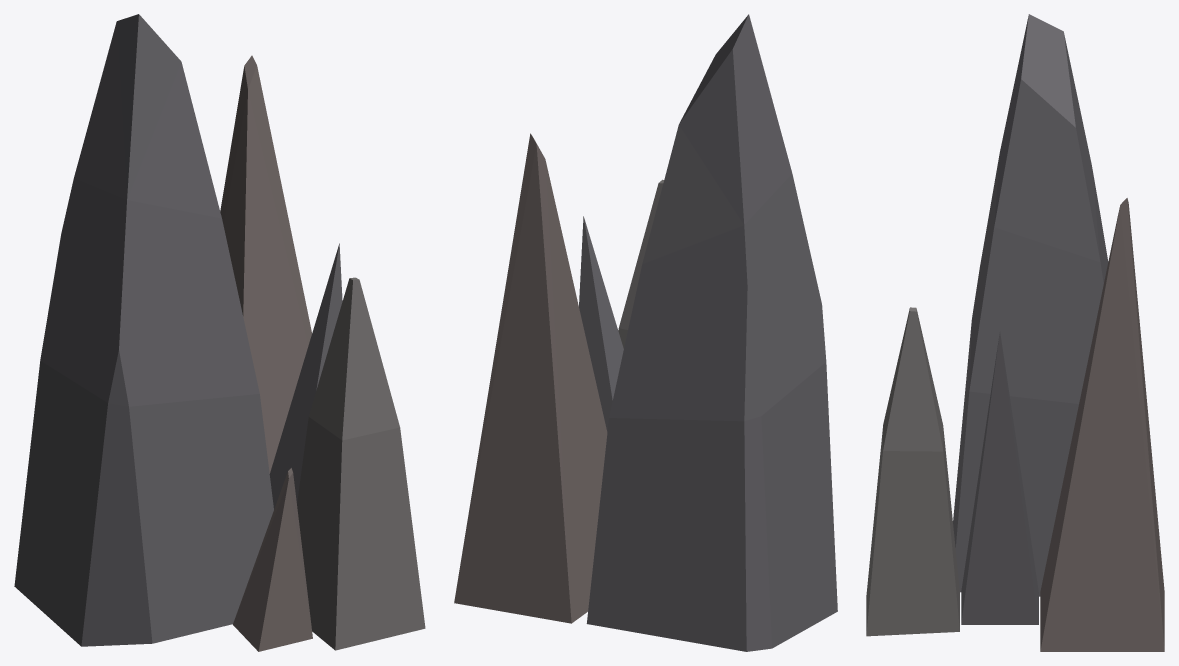
Rendered from Rocks_Sharp_s_01.fbx.
3 views of the same model, side by side, from view 1: azimuth 30°, elevation 25°; view 2: azimuth 150°, elevation 25°; view 3: azimuth 270°, elevation 25° (orthographic). The views are drawn at different scales.
Parts seen in each view (by area): view 1: Rocks_Sharp_s_01; view 2: Rocks_Sharp_s_01; view 3: Rocks_Sharp_s_01.
Boxes of the visible parts, x1,y1,x2,y2 form: Rocks_Sharp_s_01: (14,14,425,651); Rocks_Sharp_s_01: (454,14,837,651); Rocks_Sharp_s_01: (866,14,1164,651).
Size of the model in its own units: 0.5138 by 0.9898 by 0.4938.
